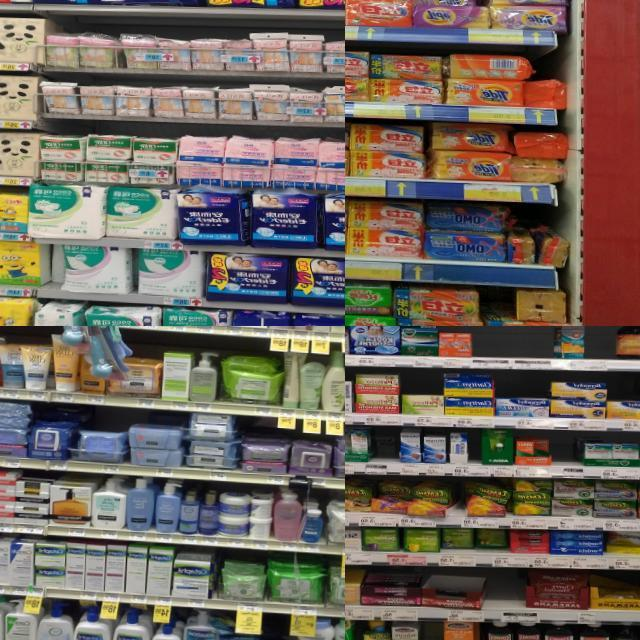empty: (511, 326, 552, 369), (490, 570, 523, 621), (471, 326, 511, 368), (585, 326, 614, 370), (551, 432, 578, 477), (467, 428, 480, 476)
